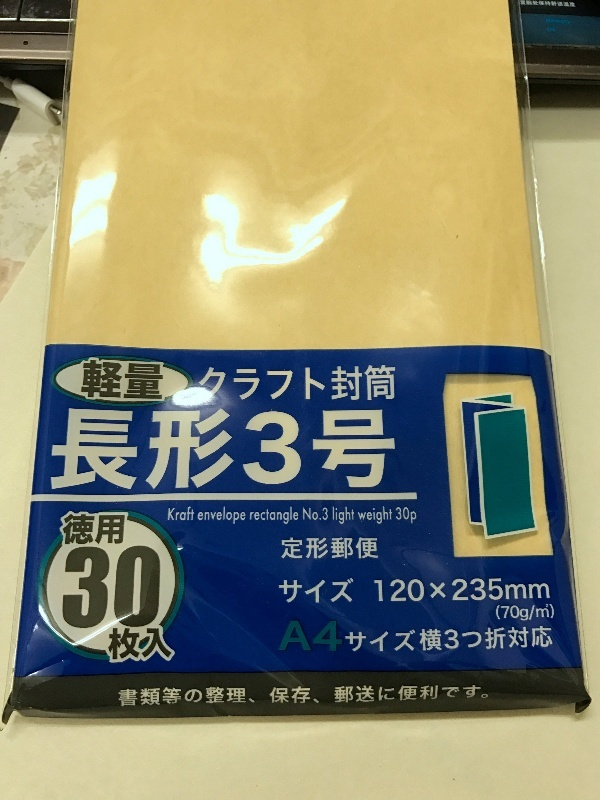text: (65, 408, 80, 492), (81, 408, 96, 492), (97, 408, 112, 492), (113, 408, 128, 492), (129, 408, 144, 492), (145, 408, 160, 492), (161, 408, 176, 492), (177, 408, 192, 492), (193, 408, 208, 492), (209, 408, 224, 492), (225, 408, 240, 492), (241, 408, 256, 492), (257, 408, 272, 492), (273, 408, 288, 492), (289, 408, 304, 492), (305, 408, 320, 492), (321, 408, 336, 492), (337, 408, 352, 492), (353, 408, 368, 492), (369, 408, 384, 492), (81, 547, 96, 630), (97, 547, 112, 630), (113, 547, 128, 630), (129, 547, 144, 630), (145, 547, 160, 630), (51, 408, 64, 492), (385, 408, 397, 492), (68, 547, 80, 630), (97, 358, 112, 401), (113, 358, 128, 401), (129, 358, 144, 401), (145, 358, 160, 401), (209, 364, 224, 401), (225, 364, 240, 401), (241, 364, 256, 401), (257, 364, 272, 401), (273, 364, 288, 401), (289, 364, 304, 401), (305, 364, 320, 401), (321, 364, 336, 401), (337, 364, 352, 401), (353, 364, 368, 401), (369, 364, 384, 401), (161, 627, 177, 661), (84, 358, 96, 401), (65, 512, 80, 546), (81, 512, 96, 546), (97, 512, 112, 546), (113, 627, 128, 661), (129, 627, 144, 661), (145, 627, 160, 661), (305, 619, 320, 652), (321, 619, 336, 652), (113, 512, 126, 546), (385, 364, 396, 401), (337, 578, 353, 603), (292, 619, 304, 652), (289, 535, 304, 561), (305, 535, 320, 561), (321, 535, 336, 561), (337, 535, 352, 561), (353, 535, 368, 561), (353, 626, 368, 652), (369, 626, 384, 652), (385, 626, 400, 652), (401, 626, 416, 652), (417, 626, 432, 652), (433, 626, 448, 652), (449, 626, 464, 652), (465, 626, 480, 652), (481, 626, 496, 652), (497, 626, 512, 652), (513, 626, 528, 652), (529, 626, 544, 652), (289, 578, 304, 603), (305, 578, 320, 603), (321, 578, 336, 603), (129, 686, 144, 711), (145, 686, 160, 711), (161, 686, 176, 711), (177, 686, 192, 711), (193, 686, 208, 711), (209, 686, 224, 711), (225, 686, 240, 711), (241, 686, 256, 711), (257, 686, 272, 711), (273, 686, 288, 711), (289, 686, 304, 711), (305, 686, 320, 711), (321, 686, 336, 711), (337, 686, 352, 711), (353, 686, 368, 711), (369, 686, 384, 711), (385, 686, 400, 711), (401, 686, 416, 711), (417, 686, 432, 711), (433, 686, 448, 711), (449, 686, 464, 711), (465, 686, 480, 711), (385, 580, 400, 602), (401, 580, 416, 602), (417, 580, 432, 602), (433, 580, 448, 602), (449, 580, 464, 602), (465, 580, 480, 602), (481, 580, 496, 602), (305, 506, 320, 524), (337, 507, 352, 525), (401, 507, 416, 525), (369, 535, 379, 561), (201, 364, 208, 401), (497, 604, 512, 621), (513, 604, 528, 621), (529, 604, 544, 621), (209, 508, 224, 525), (225, 508, 240, 525), (118, 686, 128, 711), (481, 686, 491, 711), (513, 584, 528, 600), (529, 584, 544, 600), (369, 507, 384, 523), (545, 626, 554, 652), (279, 578, 288, 603), (257, 507, 272, 521), (273, 507, 288, 521), (375, 580, 384, 602), (177, 508, 192, 521), (545, 604, 555, 621), (337, 619, 342, 652), (358, 507, 368, 523), (346, 626, 352, 652), (497, 580, 504, 602), (199, 508, 208, 525), (321, 506, 329, 524), (385, 507, 394, 523), (289, 507, 299, 521), (283, 535, 288, 561), (161, 358, 164, 401), (505, 584, 512, 600), (168, 508, 176, 521), (241, 508, 247, 525), (545, 584, 551, 600), (250, 507, 256, 521), (161, 547, 162, 630), (110, 627, 112, 661), (333, 507, 336, 525), (353, 507, 356, 525), (397, 507, 400, 525), (63, 512, 64, 546), (193, 508, 195, 521), (417, 507, 418, 525)
